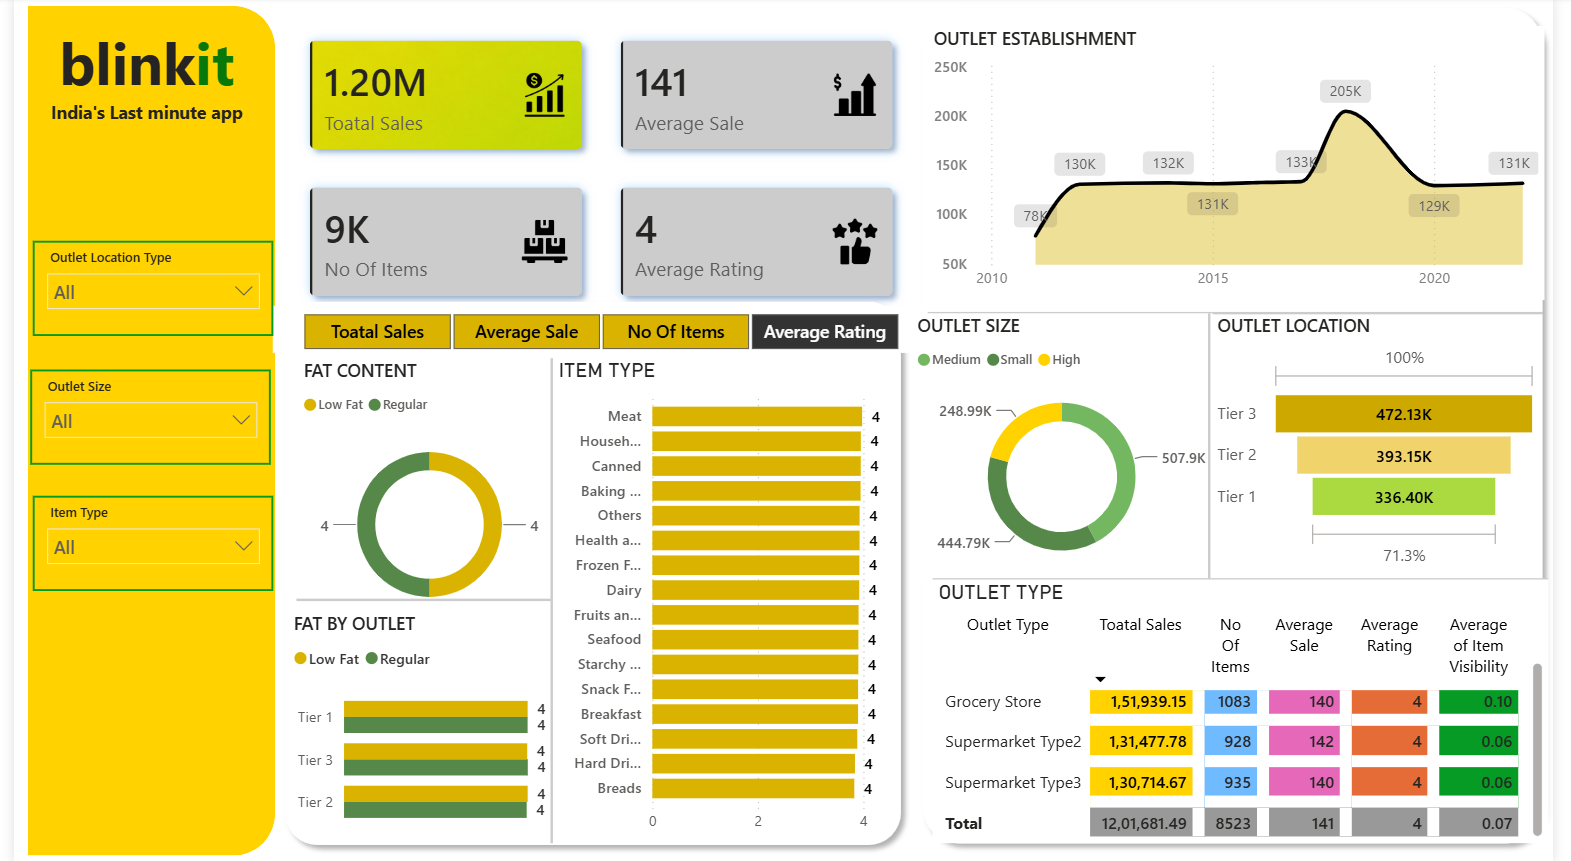

Layout of this report page (visuals, bound fields, positions):
{"tool":"powerbi","page":{"name":"Page 1","canvas":[1280,720],"ordinal":0},"visuals":[{"type":"shape","box":[11,6.9,205.8,706.7],"z":0},{"type":"textbox","box":[10.5,16.3,200,98.8],"z":1000},{"type":"cardVisual","fields":{"Data":["BlinkIT Grocery Data.Toatal Sales","BlinkIT Grocery Data.Average Sale","BlinkIT Grocery Data.No Of Items","BlinkIT Grocery Data.Average Rating"]},"box":[217.2,7.3,542.5,270.2],"z":2000},{"type":"shape","box":[216.3,244.2,530.2,469.8],"z":3000},{"type":"donutChart","title":"FAT CONTENT","fields":{"Category":["BlinkIT Grocery Data.Item Fat Content"],"Y":["BlinkIT Grocery Data.Average Rating"]},"box":[236,300.5,219.6,229.2],"z":4000},{"type":"slicer","fields":{"Values":["METRICS.METRICS"]},"box":[215.1,257,544.2,39.5],"z":5000},{"type":"clusteredBarChart","title":"FAT BY OUTLET","fields":{"Category":["BlinkIT Grocery Data.Outlet Location Type"],"Series":["BlinkIT Grocery Data.Item Fat Content"],"Y":["BlinkIT Grocery Data.Average Rating"]},"box":[227.9,510.5,219.8,193],"z":6000},{"type":"shape","box":[420.9,300,52.3,403.5],"z":7000},{"type":"shape","box":[234.9,474.4,212.8,54.7],"z":8000},{"type":"barChart","title":"ITEM TYPE","fields":{"Category":["BlinkIT Grocery Data.Item Type"],"Y":["BlinkIT Grocery Data.Average Rating"]},"box":[447.7,300,281.4,403.5],"z":9000},{"type":"shape","box":[746.5,0,533.7,712.8],"z":10000},{"type":"lineChart","title":"OUTLET ESTABLISHMENT","fields":{"Category":["BlinkIT Grocery Data.Outlet Establishment Year"],"Y":["BlinkIT Grocery Data.Toatal Sales"]},"box":[759.3,24.4,512.8,227.9],"z":11000},{"type":"shape","box":[759.3,244.2,511.6,37.2],"z":12000},{"type":"donutChart","title":"OUTLET SIZE","fields":{"Category":["BlinkIT Grocery Data.Outlet Size"],"Y":["BlinkIT Grocery Data.Toatal Sales"]},"box":[746.5,262.8,250,224.4],"z":13000},{"type":"shape","box":[967.4,262.8,52.3,220.9],"z":14000},{"type":"funnel","title":"OUTLET LOCATION","fields":{"Category":["BlinkIT Grocery Data.Outlet Location Type"],"Y":["Sum(BlinkIT Grocery Data.Sales)"]},"box":[995.4,262.8,276.7,216.3],"z":15000},{"type":"shape","box":[764,465.1,511.6,37.2],"z":16000},{"type":"pivotTable","title":"OUTLET TYPE","fields":{"Rows":["BlinkIT Grocery Data.Outlet Type"],"Values":["BlinkIT Grocery Data.Toatal Sales","BlinkIT Grocery Data.No Of Items","BlinkIT Grocery Data.Average Sale","BlinkIT Grocery Data.Average Rating","Avg(BlinkIT Grocery Data.Item Visibility)"]},"box":[764,484,512,219],"z":17000},{"type":"slicer","fields":{"Values":["BlinkIT Grocery Data.Outlet Location Type"]},"box":[15.1,202.3,200,79.1],"z":18000},{"type":"slicer","fields":{"Values":["BlinkIT Grocery Data.Outlet Size"]},"box":[14,310,200,79],"z":19000},{"type":"slicer","fields":{"Values":["BlinkIT Grocery Data.Item Type"]},"box":[16,415,200,79],"z":20000}]}

Visuals, with their boxes in screenshot pixels (x1, y1, x2, y2), scaled from the page's 1280x720 canvas onto the 1571x861 screenshot:
shape: 14, 8, 266, 853
textbox: 13, 19, 258, 138
cardVisual - BlinkIT Grocery Data.Toatal Sales x BlinkIT Grocery Data.Average Sale: 267, 9, 932, 332
shape: 265, 292, 916, 854
"FAT CONTENT" donutChart: 290, 359, 559, 633
slicer - METRICS.METRICS: 264, 307, 932, 355
"FAT BY OUTLET" clusteredBarChart: 280, 610, 549, 841
shape: 517, 359, 581, 841
shape: 288, 567, 549, 633
"ITEM TYPE" barChart: 549, 359, 895, 841
shape: 916, 0, 1570, 852
"OUTLET ESTABLISHMENT" lineChart: 932, 29, 1561, 302
shape: 932, 292, 1560, 337
"OUTLET SIZE" donutChart: 916, 314, 1223, 583
shape: 1187, 314, 1252, 578
"OUTLET LOCATION" funnel: 1222, 314, 1561, 573
shape: 938, 556, 1566, 601
"OUTLET TYPE" pivotTable: 938, 579, 1566, 841
slicer - BlinkIT Grocery Data.Outlet Location Type: 19, 242, 264, 337
slicer - BlinkIT Grocery Data.Outlet Size: 17, 371, 263, 465
slicer - BlinkIT Grocery Data.Item Type: 20, 496, 265, 591
